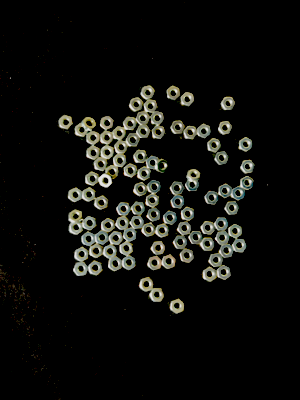nut: (139, 277, 155, 293), (170, 298, 185, 315), (217, 265, 232, 281), (203, 267, 218, 283), (73, 262, 89, 277), (88, 261, 104, 276), (108, 256, 123, 272), (215, 231, 231, 246), (155, 224, 171, 239), (82, 216, 98, 231), (224, 201, 240, 216), (94, 196, 110, 211), (82, 187, 97, 203), (239, 137, 254, 153), (170, 120, 186, 135), (209, 253, 224, 268), (180, 249, 195, 264), (162, 255, 177, 270), (122, 256, 137, 271), (219, 244, 234, 259), (75, 247, 90, 262), (201, 221, 216, 236), (109, 231, 124, 246), (116, 216, 131, 231), (101, 218, 116, 233), (163, 211, 178, 226), (181, 207, 196, 222), (171, 195, 186, 210), (240, 176, 255, 191), (147, 180, 162, 195), (105, 165, 120, 180), (94, 157, 109, 172), (113, 153, 128, 168), (181, 92, 196, 107), (152, 125, 167, 140), (86, 146, 101, 161), (59, 115, 74, 130), (75, 123, 90, 138), (82, 117, 97, 132), (100, 116, 115, 131), (129, 97, 144, 112), (141, 85, 156, 100), (151, 241, 167, 255), (232, 239, 248, 253), (173, 236, 189, 250), (200, 238, 216, 252), (214, 217, 230, 231), (177, 222, 193, 236), (95, 230, 109, 246), (116, 202, 132, 216), (219, 183, 233, 199), (232, 186, 246, 202), (240, 160, 256, 174), (85, 171, 99, 187), (124, 163, 138, 179), (133, 150, 149, 164), (214, 151, 230, 165), (150, 289, 165, 303), (148, 256, 162, 271), (120, 242, 134, 257), (103, 245, 118, 259), (90, 244, 104, 259), (189, 231, 204, 245), (229, 224, 243, 239), (142, 223, 157, 237), (123, 228, 138, 242), (82, 232, 96, 247), (130, 216, 145, 230), (69, 210, 84, 224), (147, 208, 162, 222), (131, 202, 146, 216), (187, 169, 202, 183), (205, 191, 220, 205), (146, 193, 160, 208), (134, 182, 148, 197), (68, 188, 82, 203), (99, 174, 114, 188), (137, 167, 152, 181), (155, 159, 169, 174), (208, 138, 222, 153), (218, 121, 233, 135), (221, 97, 236, 111), (198, 124, 212, 139), (184, 126, 198, 141), (167, 86, 181, 101), (101, 145, 115, 160), (136, 125, 151, 139), (86, 131, 101, 145), (100, 130, 114, 145), (112, 126, 127, 140), (123, 117, 138, 131), (136, 112, 151, 126), (144, 100, 159, 114), (170, 182, 186, 195), (114, 141, 130, 154), (151, 111, 165, 125), (69, 223, 84, 236), (126, 134, 141, 147), (146, 156, 159, 170), (185, 181, 201, 192)
